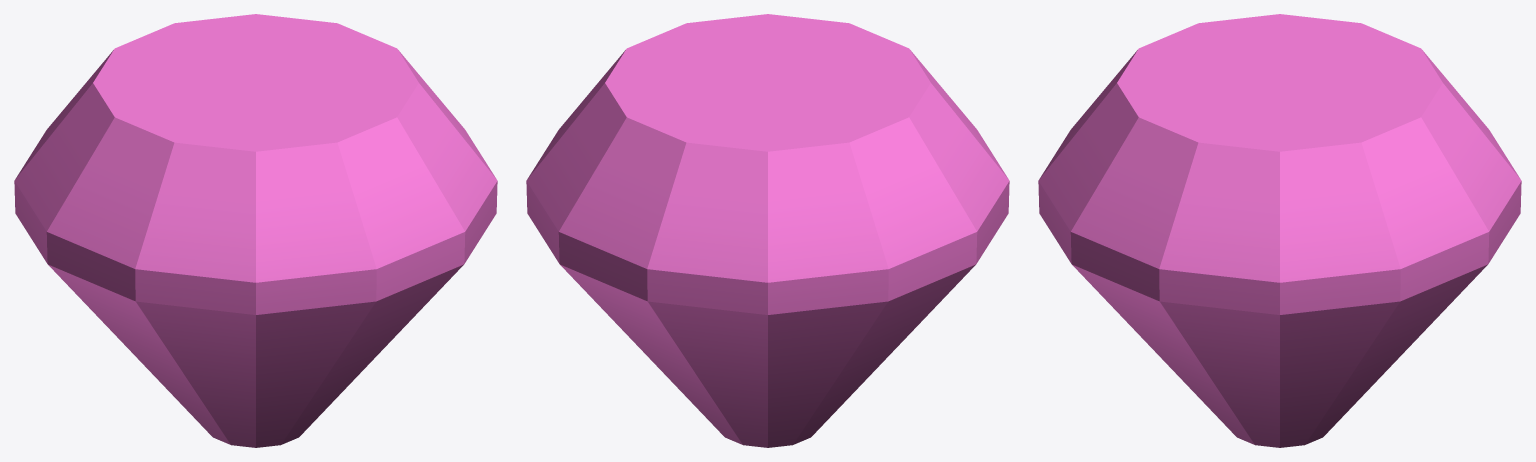
File: Crystal002.fbx
3 views of the same model, side by side, from view 1: azimuth 30°, elevation 25°; view 2: azimuth 150°, elevation 25°; view 3: azimuth 270°, elevation 25° (orthographic).
Visible parts, largest first — view 1: Crystal002; view 2: Crystal002; view 3: Crystal002.
Part boxes in pixels (x1,y1,x2,y2): Crystal002: (14, 14, 497, 447); Crystal002: (526, 14, 1009, 447); Crystal002: (1038, 14, 1521, 447).
Size of the model in its own units: 91.8 by 72.12 by 91.8.
